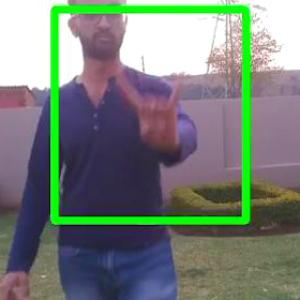takeoff-hand: (113, 62, 193, 156)
